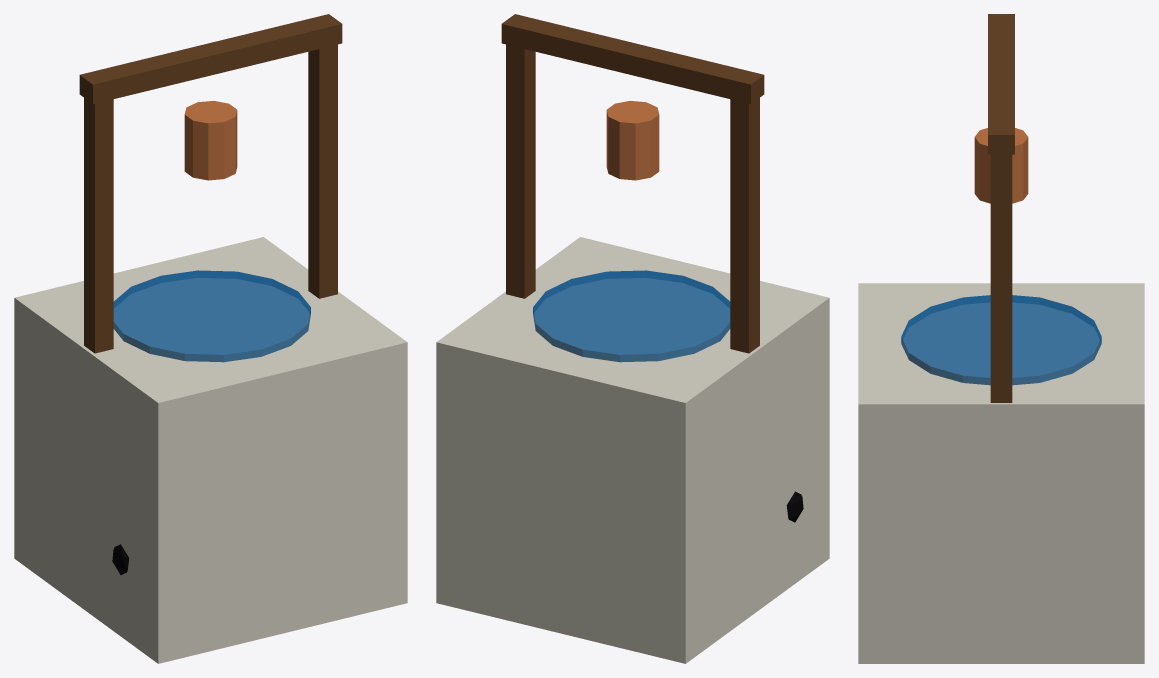
Rendered from Bld_OR_DiceWell_00.glb.
The picture shows the model from 3 angles, left to right: view 1: azimuth 30°, elevation 25°; view 2: azimuth 150°, elevation 25°; view 3: azimuth 270°, elevation 25°; orthographic projection.
Visible parts, largest first — view 1: Bld_OR_DiceWell_00; view 2: Bld_OR_DiceWell_00; view 3: Bld_OR_DiceWell_00.
Part boxes in pixels (x1,y1,x2,y2): Bld_OR_DiceWell_00: [14, 14, 407, 663]; Bld_OR_DiceWell_00: [436, 14, 829, 663]; Bld_OR_DiceWell_00: [858, 14, 1144, 663].
Bounding box in the file's own units: 1.63 × 3.26 × 1.6.
